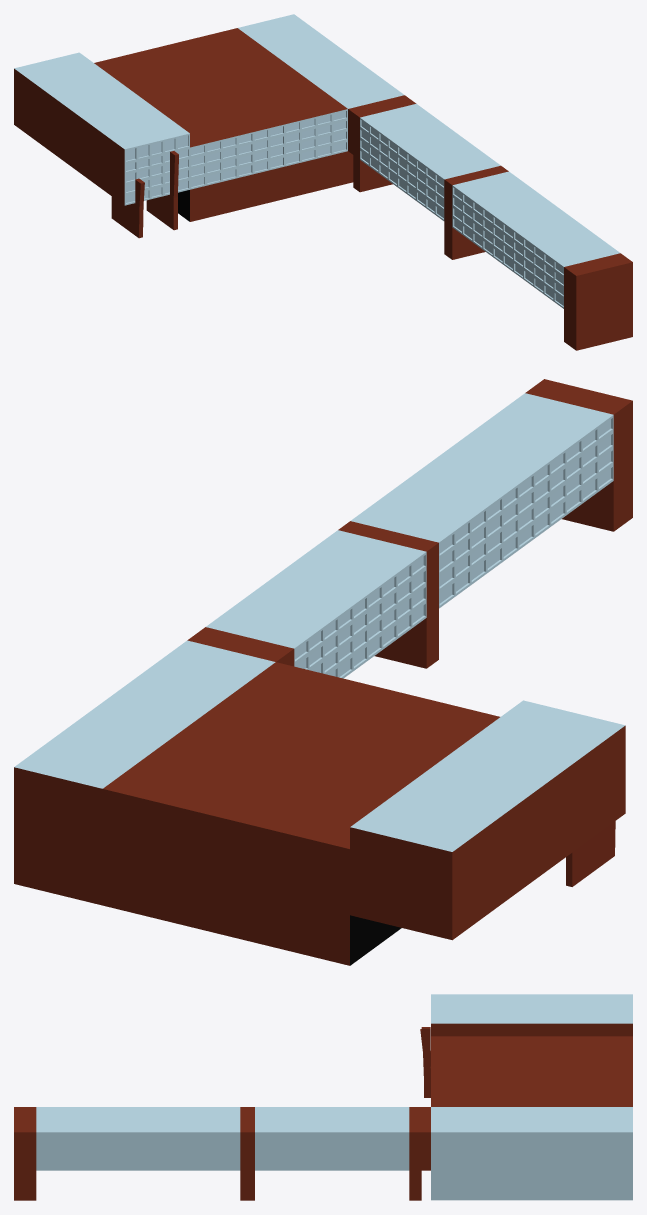
The model's file is walmartSams.fbx.
3 views of the same model, one above another, from view 1: azimuth 30°, elevation 25°; view 2: azimuth 150°, elevation 25°; view 3: azimuth 270°, elevation 25° (orthographic). The views are drawn at different scales.
Parts seen in each view (by area): view 1: Cube, Plane.001, Plane; view 2: Cube, Plane; view 3: Cube, Plane.001.
Boxes of the visible parts, bbox=[...] form: Cube: bbox=[14, 14, 632, 350]; Plane.001: bbox=[146, 151, 178, 230]; Plane: bbox=[111, 178, 144, 238]; Cube: bbox=[14, 379, 632, 965]; Plane: bbox=[566, 821, 615, 886]; Cube: bbox=[14, 994, 632, 1200]; Plane.001: bbox=[421, 1027, 430, 1097].
Bounding box in the file's own units: 5436 × 1655 × 11387.
